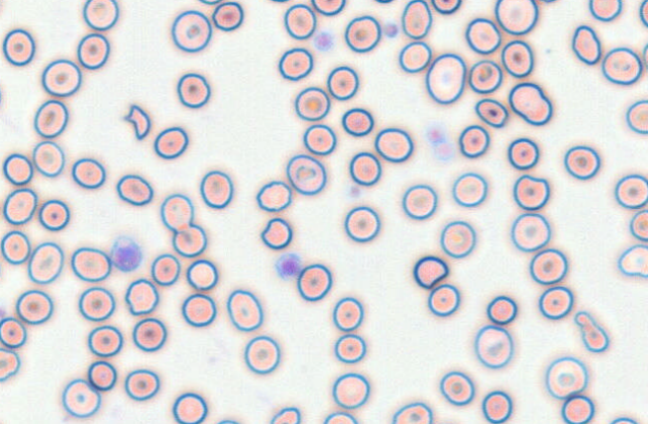PLT: (111, 239, 142, 271), (275, 254, 301, 278), (424, 123, 447, 145), (314, 31, 335, 52), (381, 21, 400, 38)
RBC: (425, 52, 466, 104), (508, 81, 552, 125), (545, 355, 588, 399), (171, 9, 212, 52), (474, 324, 513, 368), (286, 153, 326, 195), (510, 212, 551, 252), (61, 378, 101, 418), (601, 46, 642, 85), (226, 288, 263, 331), (27, 241, 64, 284), (41, 58, 81, 97), (494, 0, 538, 35), (70, 246, 111, 282), (529, 248, 568, 285), (331, 372, 370, 409), (243, 335, 280, 374), (439, 220, 476, 258), (344, 15, 381, 52), (343, 205, 380, 242), (296, 263, 332, 301), (512, 174, 550, 210), (374, 127, 413, 162), (33, 99, 68, 138), (465, 17, 501, 54), (401, 183, 437, 220), (563, 144, 600, 180), (2, 187, 37, 225), (15, 289, 53, 324), (160, 193, 194, 232), (124, 278, 159, 315), (78, 286, 115, 321), (199, 170, 233, 208), (294, 86, 330, 121), (452, 171, 487, 207), (2, 28, 35, 66), (115, 173, 153, 206), (501, 39, 533, 78), (132, 317, 167, 352), (439, 370, 474, 405), (614, 173, 648, 209), (176, 72, 210, 108), (76, 32, 109, 69), (32, 140, 65, 177), (401, 0, 432, 39), (172, 223, 207, 257), (181, 293, 216, 327), (538, 285, 573, 319), (278, 47, 313, 81), (283, 3, 316, 39), (87, 324, 123, 357), (124, 368, 160, 401), (255, 180, 292, 212), (468, 59, 502, 93), (348, 151, 381, 186), (153, 126, 188, 159), (427, 283, 460, 317), (326, 65, 358, 100), (82, 0, 119, 30), (398, 40, 431, 73), (302, 123, 336, 155), (458, 124, 490, 158), (71, 157, 105, 189), (172, 392, 207, 423), (332, 296, 363, 331), (507, 137, 539, 170), (617, 243, 647, 278), (38, 199, 70, 231), (481, 390, 512, 423), (2, 152, 33, 185), (0, 230, 30, 264), (474, 97, 508, 127), (186, 259, 218, 290), (211, 0, 243, 31), (333, 333, 366, 363), (150, 253, 180, 286), (560, 394, 594, 423), (87, 360, 117, 391), (486, 295, 517, 325), (341, 107, 373, 136), (391, 401, 432, 423), (0, 316, 27, 348), (625, 99, 647, 134), (588, 0, 622, 21), (0, 347, 20, 381), (629, 208, 647, 241), (269, 406, 300, 423), (310, 0, 345, 15), (322, 411, 358, 423), (431, 0, 461, 14), (639, 0, 648, 27), (608, 416, 638, 423), (642, 41, 648, 69), (0, 78, 4, 111), (214, 418, 240, 423), (197, 0, 223, 5), (266, 0, 293, 3), (536, 0, 562, 3), (0, 0, 4, 17), (373, 0, 395, 3)
Schistocyte: (574, 309, 610, 354), (571, 23, 601, 66), (415, 255, 449, 289), (121, 105, 151, 140), (261, 218, 292, 250)
